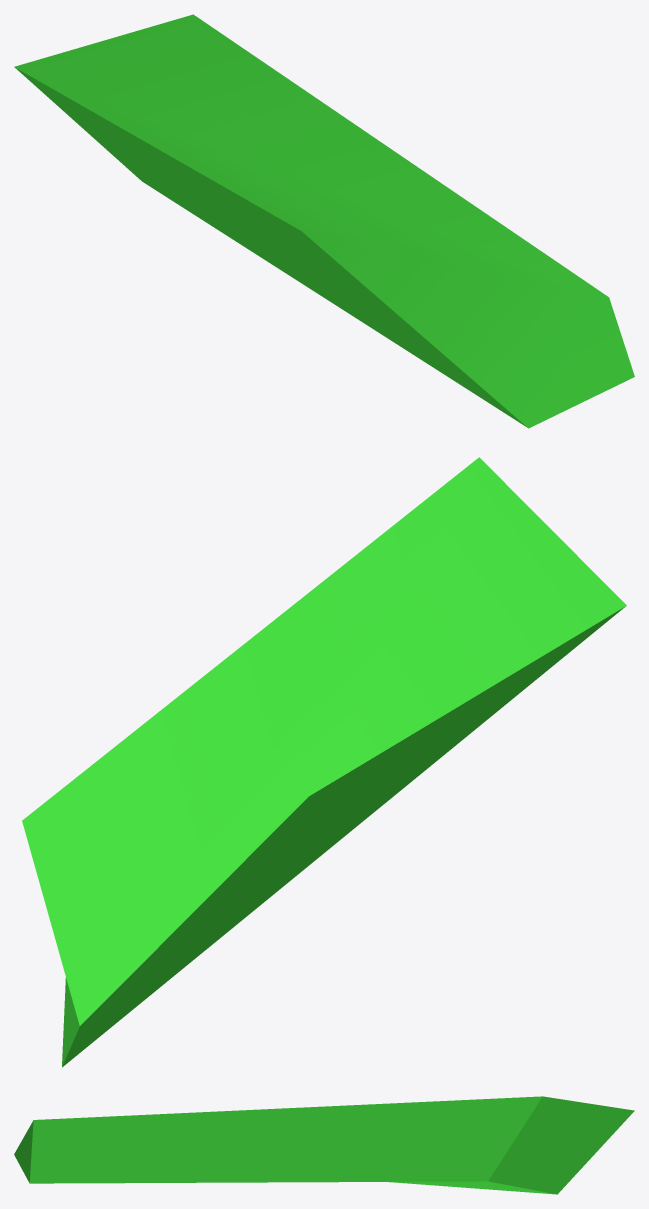
The model's file is Grass1.fbx.
3 views of the same model, one above another, from view 1: azimuth 30°, elevation 25°; view 2: azimuth 150°, elevation 25°; view 3: azimuth 270°, elevation 25° (orthographic). The views are drawn at different scales.
Visible parts, largest first — view 1: Cube; view 2: Cube; view 3: Cube.
Boxes of the visible parts, x1,y1,x2,y2 form: Cube: (14, 14, 634, 428); Cube: (22, 457, 626, 1067); Cube: (14, 1096, 634, 1194).
Size of the model in its own units: 59.04 by 54.01 by 273.
